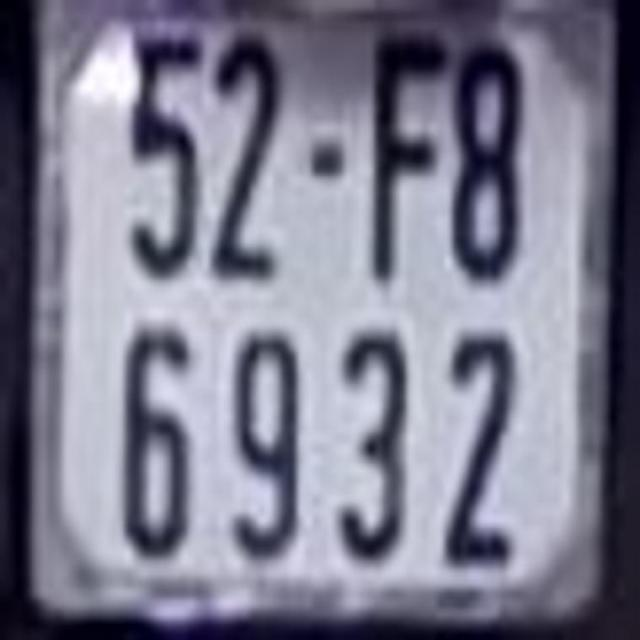2: (446, 330, 518, 561), (212, 35, 280, 279)
3: (343, 333, 406, 554)
5: (128, 36, 205, 274)
6: (120, 319, 194, 552)
8: (458, 45, 525, 278)
9: (232, 337, 308, 562)
F: (367, 34, 445, 273)
